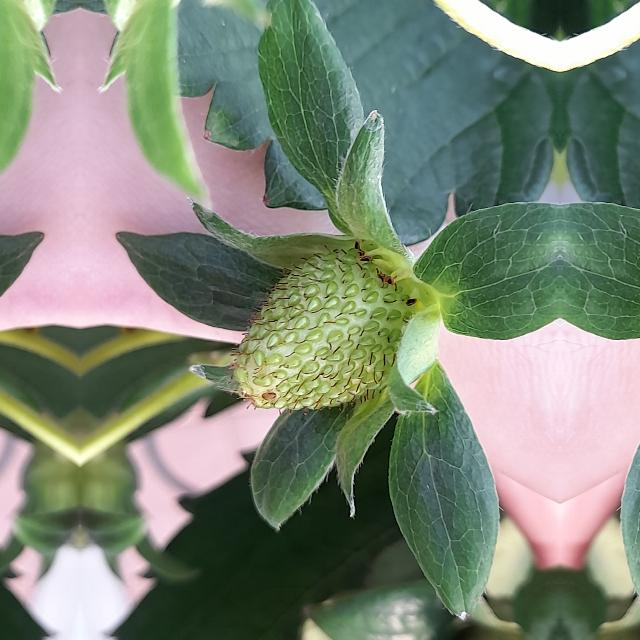Health_25: (226, 241, 424, 415)
